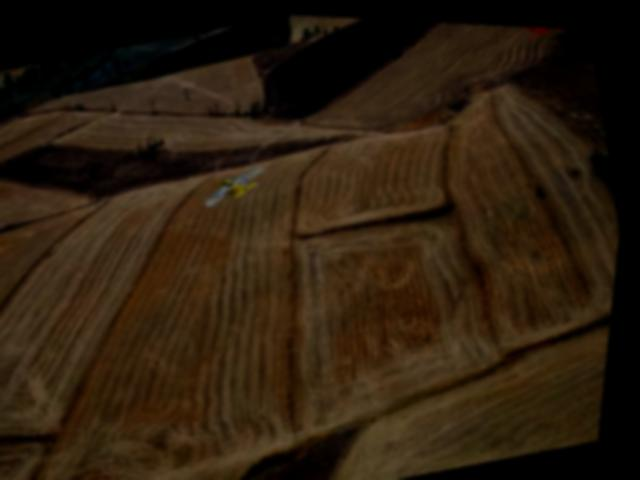uav: (198, 153, 276, 214)
